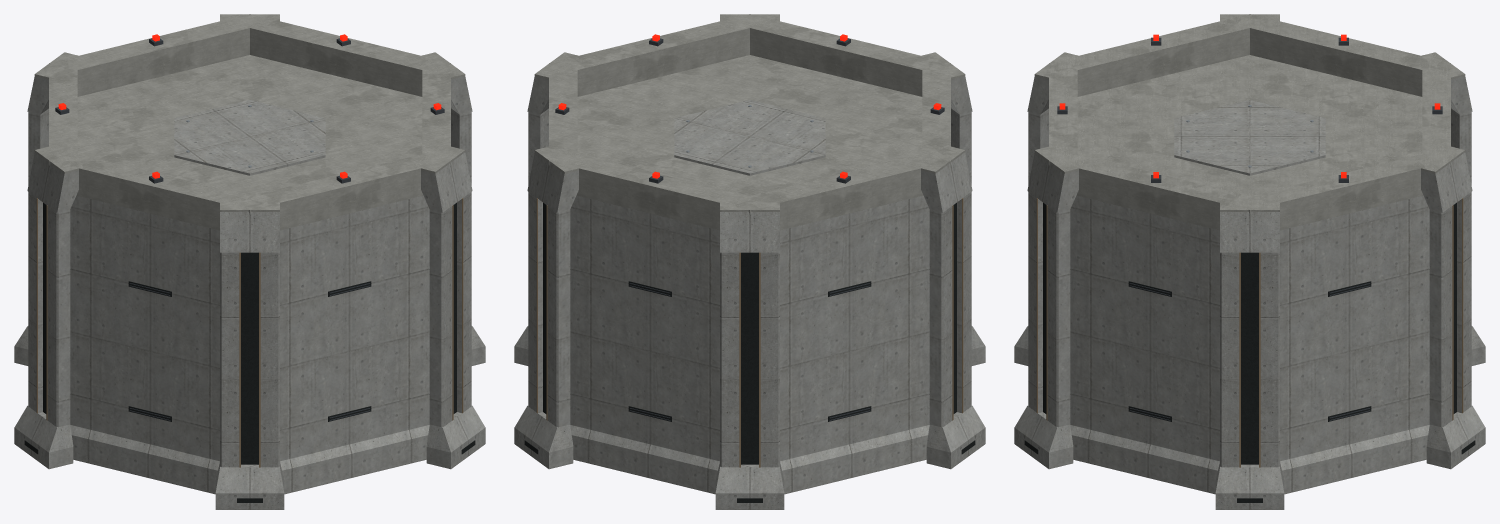
File: terminal.glb
3 views of the same model, side by side, from view 1: azimuth 30°, elevation 25°; view 2: azimuth 150°, elevation 25°; view 3: azimuth 270°, elevation 25° (orthographic).
Parts seen in each view (by area): view 1: terminal-lod0-roof0, terminal-lod0-base0, terminal-lod0-floor0; view 2: terminal-lod0-roof0, terminal-lod0-base0, terminal-lod0-floor0; view 3: terminal-lod0-roof0, terminal-lod0-base0, terminal-lod0-floor0.
Boxes of the visible parts, x1,y1,x2,y2 form: terminal-lod0-roof0: (27,14,472,255); terminal-lod0-base0: (14,319,485,509); terminal-lod0-floor0: (28,111,471,379); terminal-lod0-roof0: (527,14,972,255); terminal-lod0-base0: (514,319,985,509); terminal-lod0-floor0: (528,111,971,379); terminal-lod0-roof0: (1027,14,1472,255); terminal-lod0-base0: (1014,319,1485,509); terminal-lod0-floor0: (1028,111,1471,379).
Size of what is drawn, in the model's own units: 65.96 by 43.07 by 61.52.
7 materials, 6 textured.
